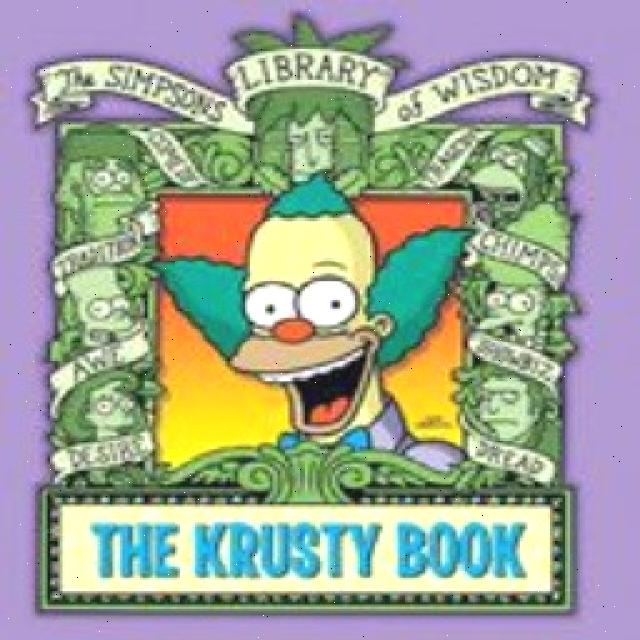Krusty the Clown: (162, 181, 464, 455)
